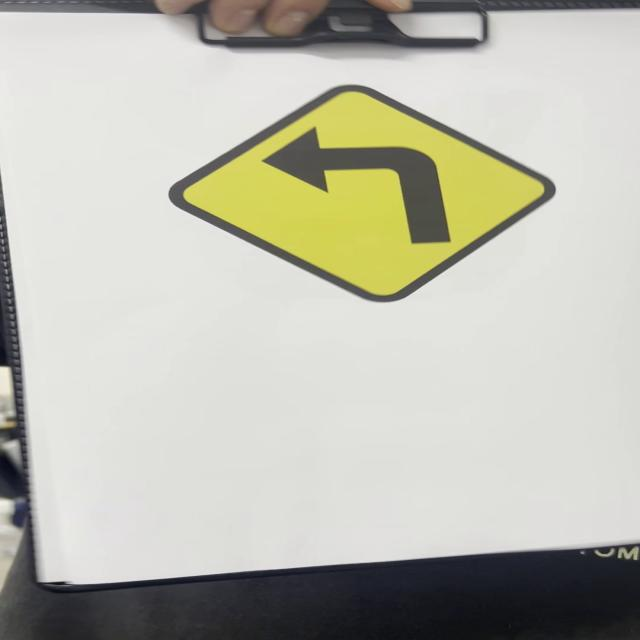left: (170, 81, 552, 305)
